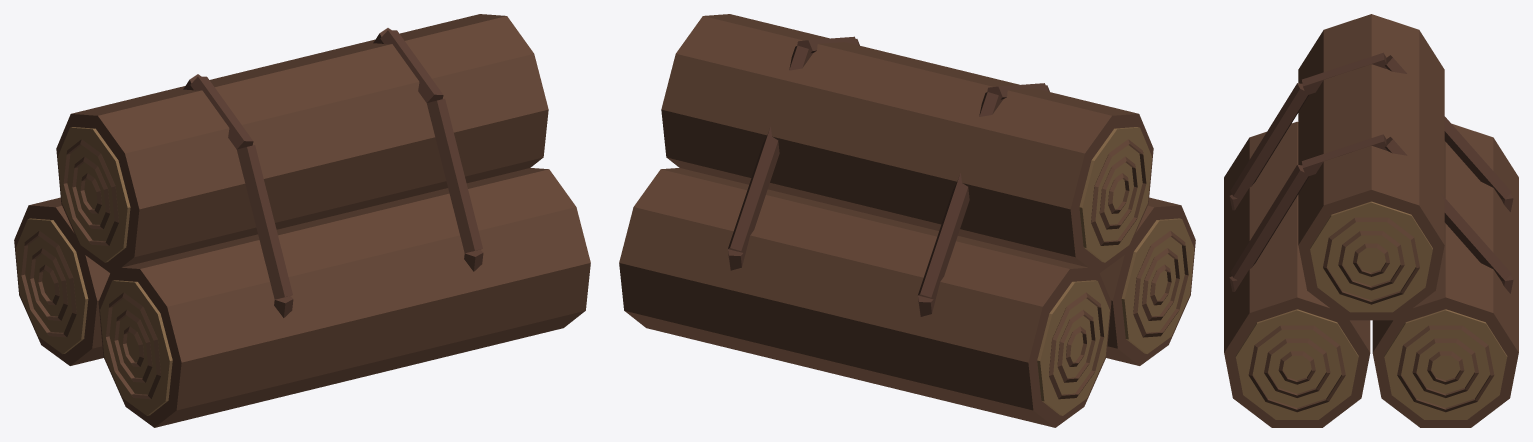
The model's file is hardwood.glb.
3 renders of one model, left to right at view 1: azimuth 30°, elevation 25°; view 2: azimuth 150°, elevation 25°; view 3: azimuth 270°, elevation 25°, orthographic. The views are drawn at different scales.
Parts seen in each view (by area): view 1: geometry; view 2: geometry; view 3: geometry.
Boxes of the visible parts, box(x1,y1,x2,y2) form: geometry: box(14, 14, 590, 427); geometry: box(619, 14, 1195, 427); geometry: box(1224, 14, 1518, 427).
Bounding box in the file's own units: 0.5841 × 0.3647 × 0.397.
